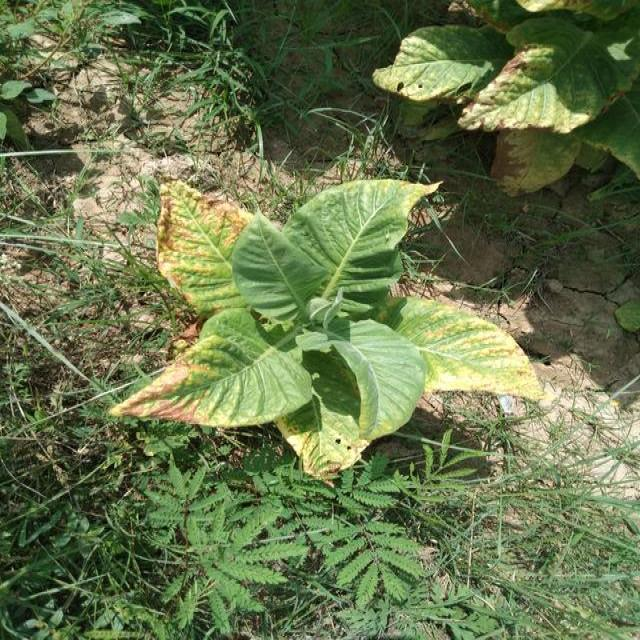crop: (108, 179, 550, 477)
